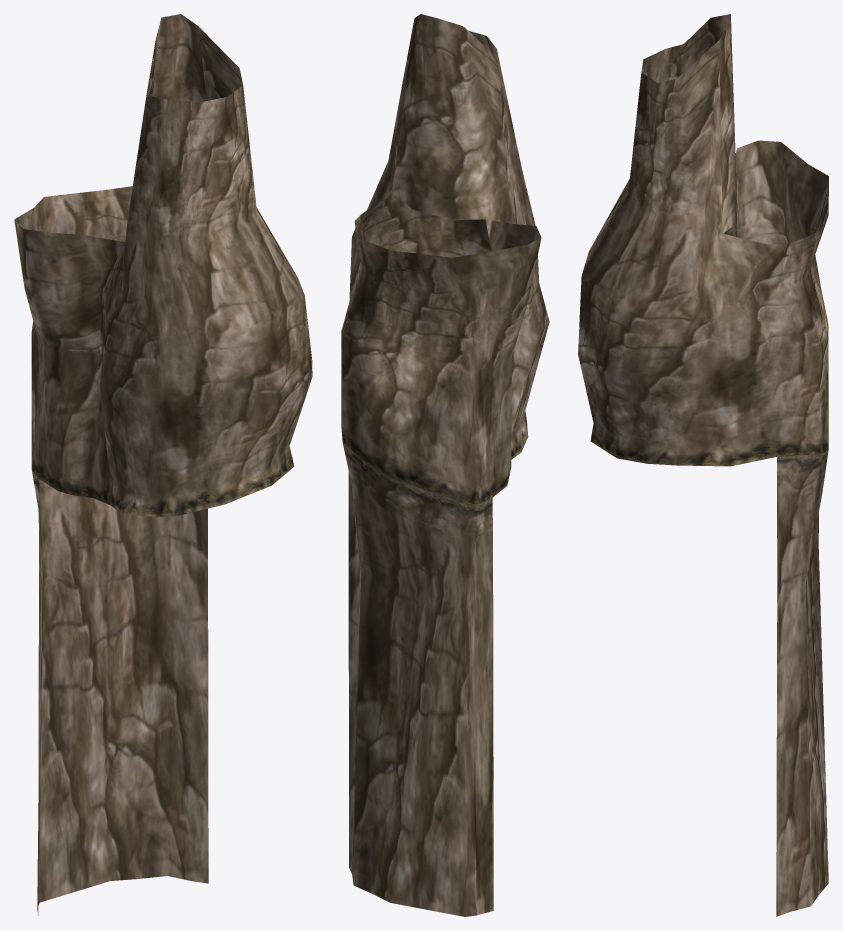
The model's file is OVERHILL_A_01_LINE50.fbx.
3 views of the same model, side by side, from view 1: azimuth 30°, elevation 25°; view 2: azimuth 150°, elevation 25°; view 3: azimuth 270°, elevation 25° (orthographic). The views are drawn at different scales.
Visible parts, largest first — view 1: OVERHILL_A_01_LINE50; view 2: OVERHILL_A_01_LINE50; view 3: OVERHILL_A_01_LINE50.
Part boxes in pixels (<box>): OVERHILL_A_01_LINE50: <box>14,14,312,915</box>; OVERHILL_A_01_LINE50: <box>341,14,549,916</box>; OVERHILL_A_01_LINE50: <box>578,14,828,916</box>.
Size of the model in its own units: 74740 by 278455 by 72815.
3 materials, 3 textured.
